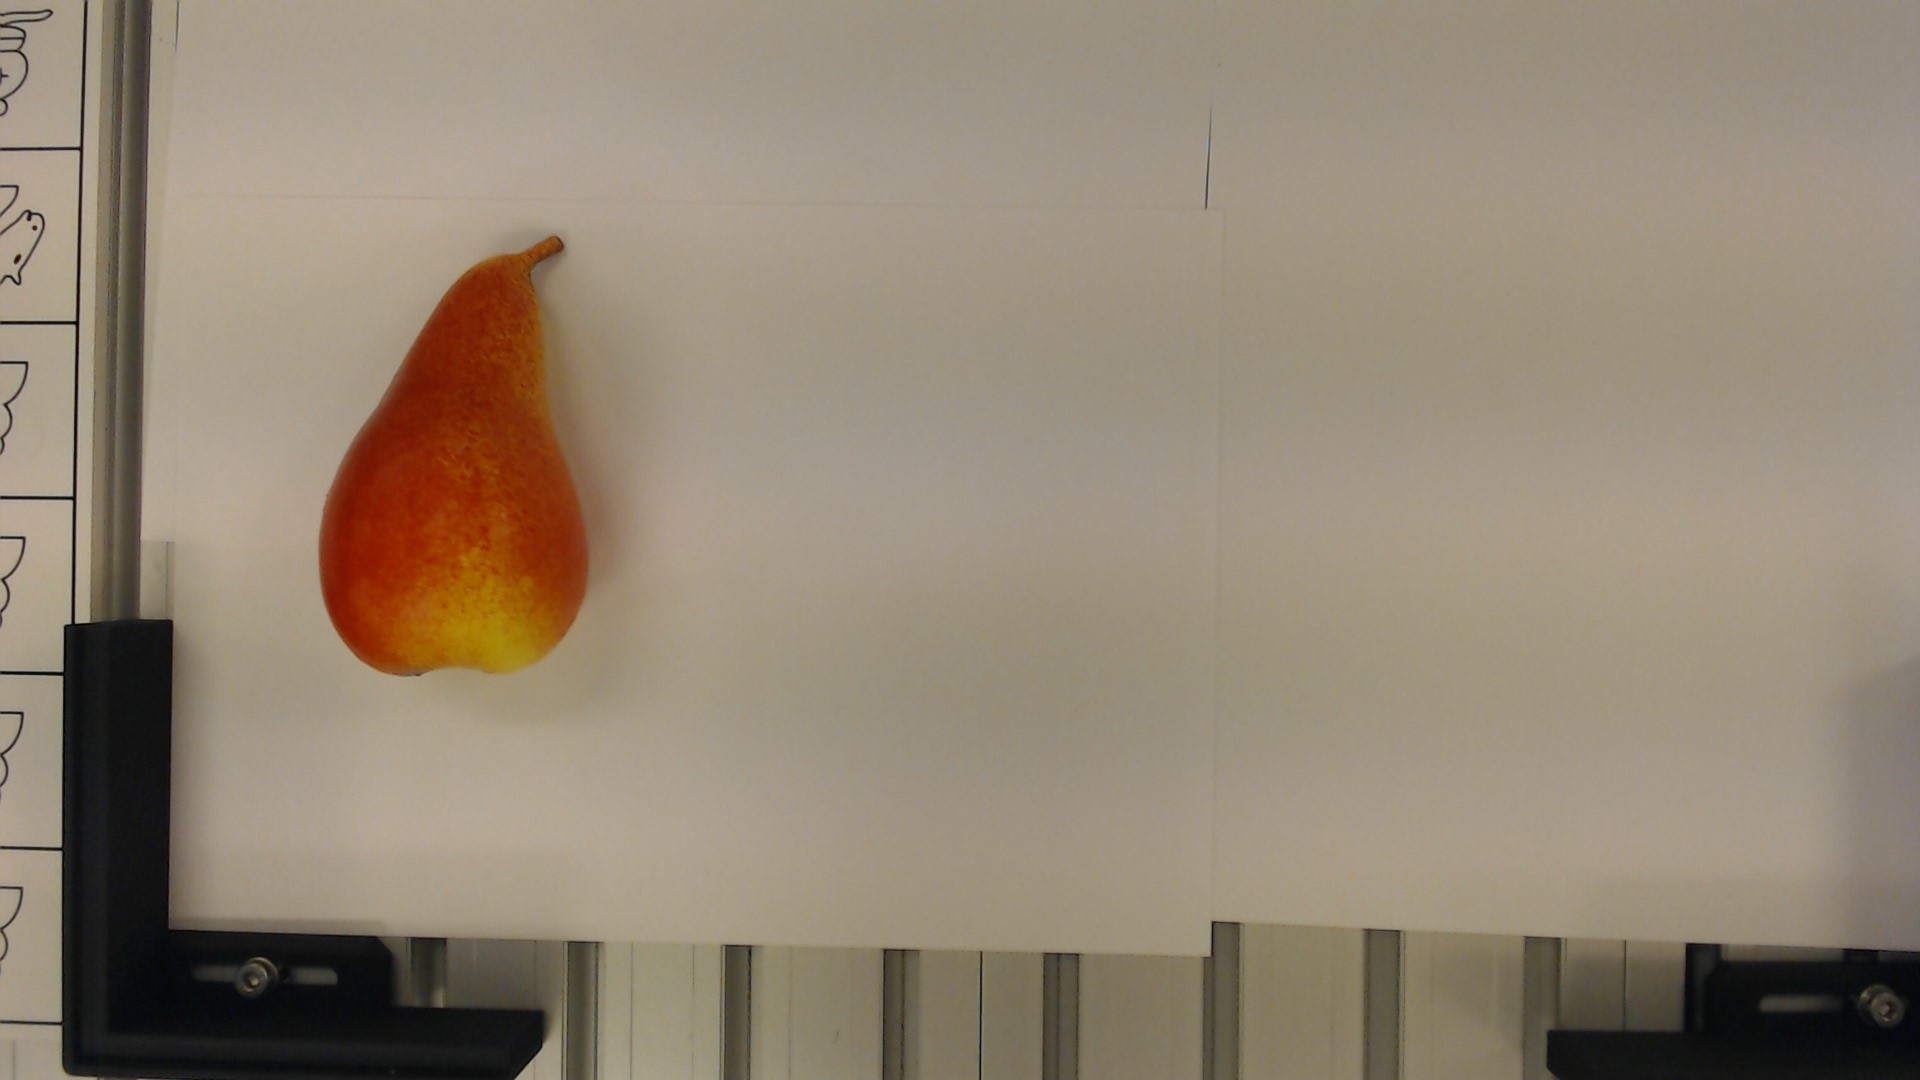Pear: (316, 214, 595, 684)
